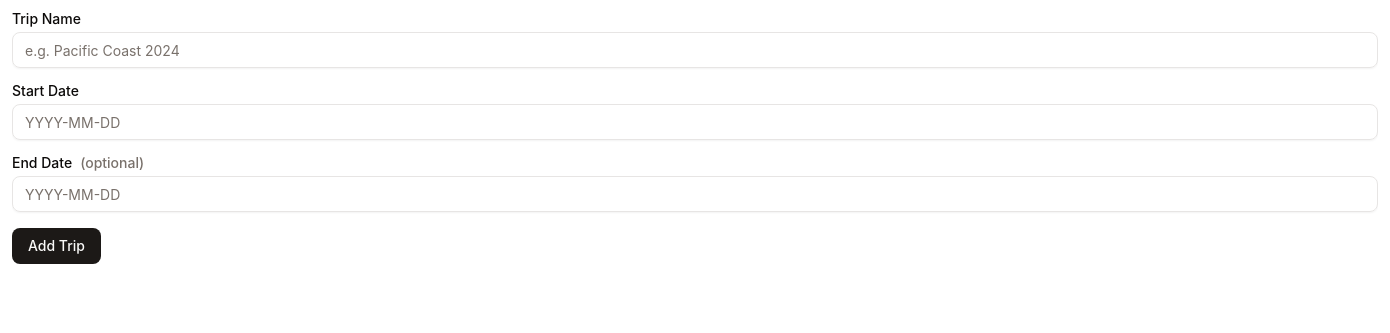
it: TripForm › shows a validation error when submitted with an empty name
This screenshot has width=1390, height=333.
Click the button "Add Trip".
click(56, 246)  # box [12,228,101,264]
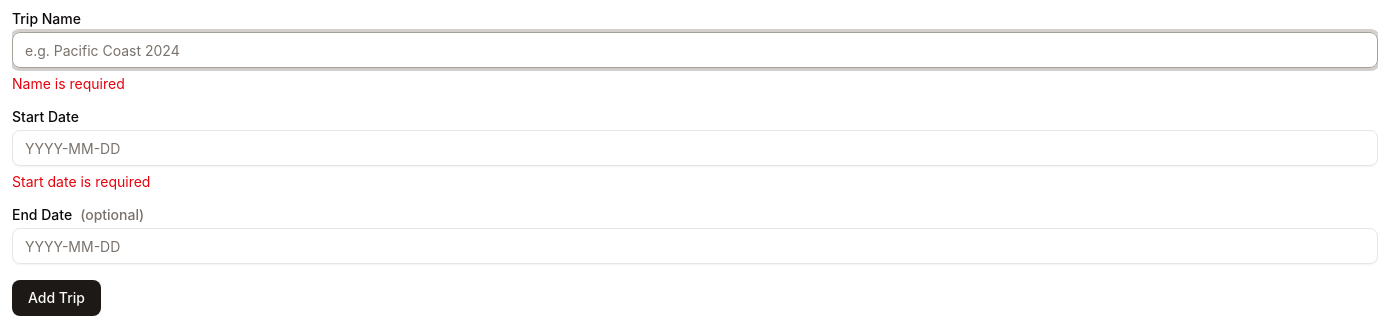
Check: the text "Name is required" is shown, box [12,75,125,92]
